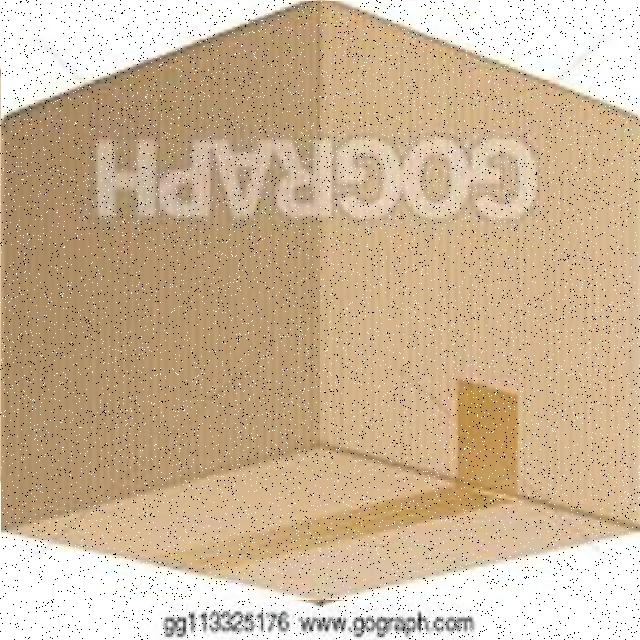normal: (1, 1, 640, 600)
